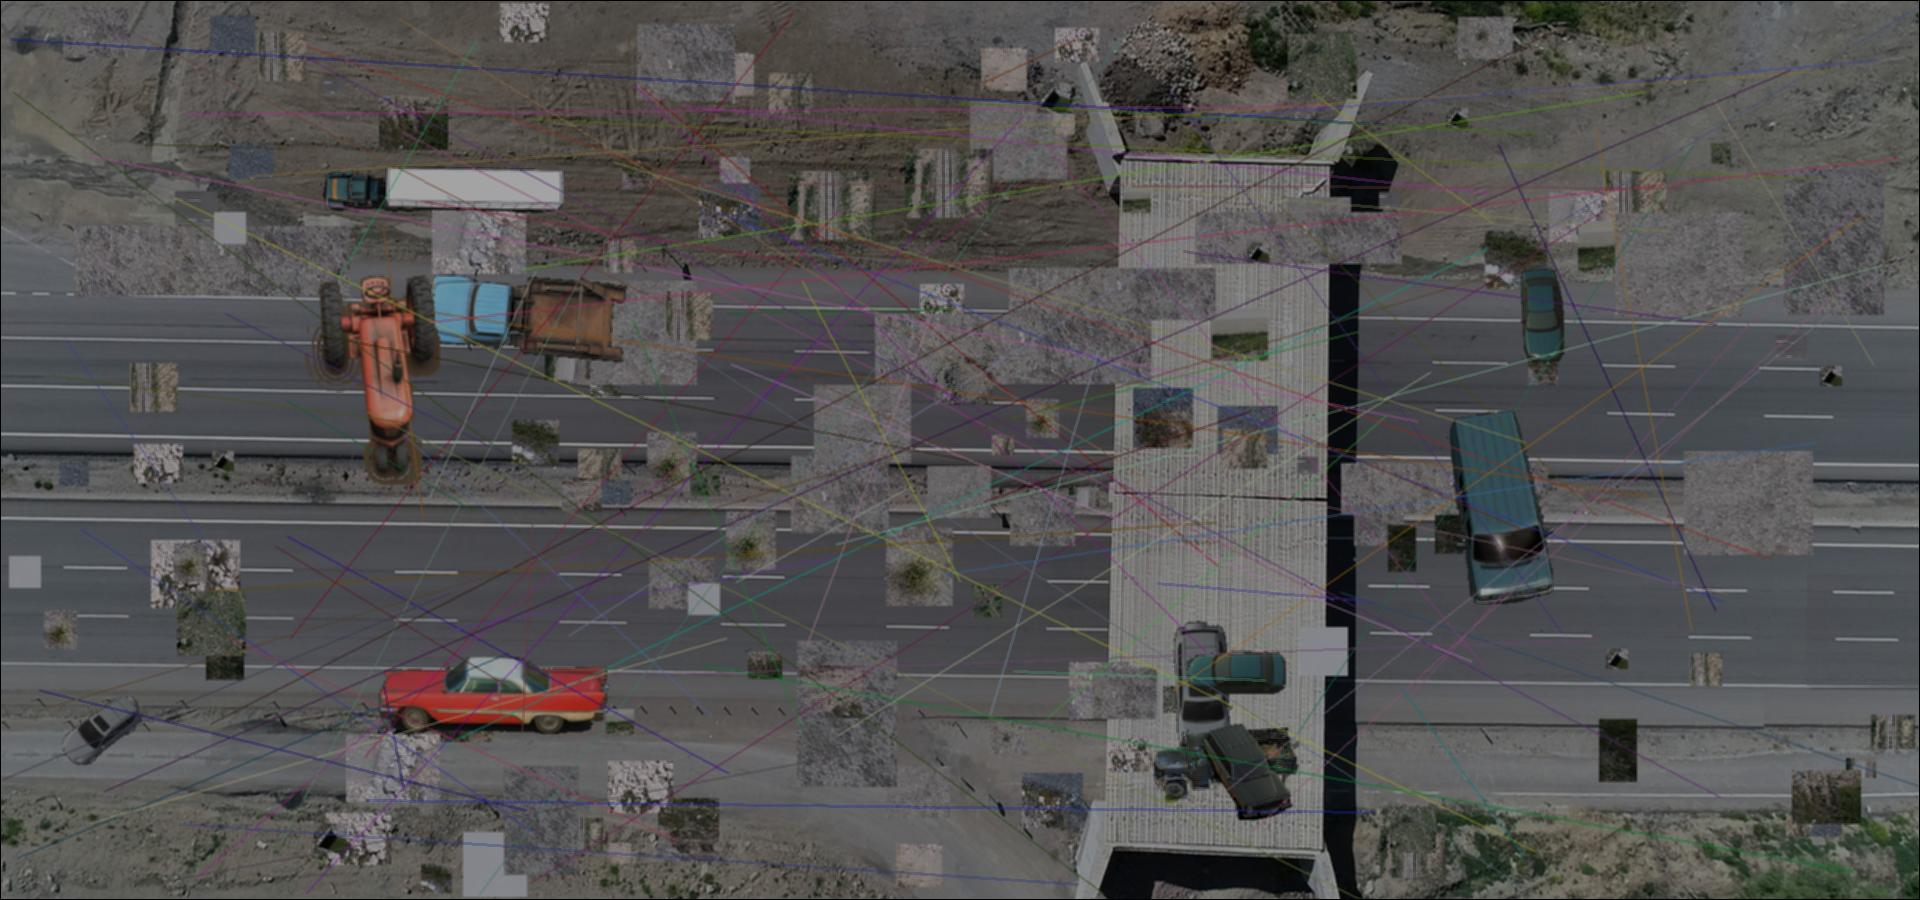arac: (305, 274, 440, 485), (1446, 409, 1556, 604), (419, 269, 629, 364), (376, 658, 615, 737), (323, 162, 569, 222), (1153, 724, 1299, 803), (1199, 724, 1294, 820), (1169, 620, 1233, 752), (59, 697, 142, 765), (1187, 650, 1291, 694), (1520, 269, 1564, 362)
